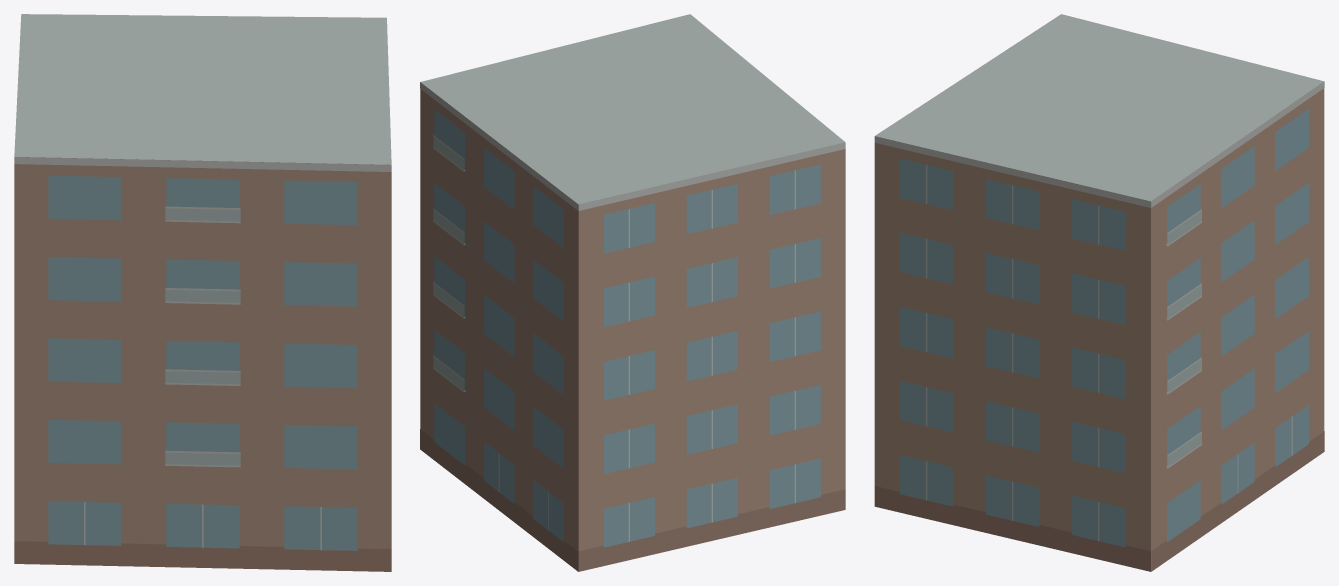
Rendered from survey-upis-32778351.glb.
3 views of the same model, side by side, from view 1: azimuth 30°, elevation 25°; view 2: azimuth 150°, elevation 25°; view 3: azimuth 270°, elevation 25° (orthographic). The views are drawn at different scales.
Visible parts, largest first — view 1: survey-upis-32778351.tmp; view 2: survey-upis-32778351.tmp; view 3: survey-upis-32778351.tmp.
Boxes of the visible parts, box(x1,y1,x2,y2) form: survey-upis-32778351.tmp: box(14, 14, 391, 571); survey-upis-32778351.tmp: box(420, 14, 845, 571); survey-upis-32778351.tmp: box(874, 14, 1324, 571).
Bounding box in the file's own units: 14.82 × 13.65 × 15.03.
